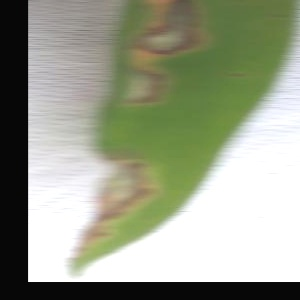Brown_Spot: (67, 152, 171, 244), (125, 0, 214, 61), (108, 57, 182, 108)
